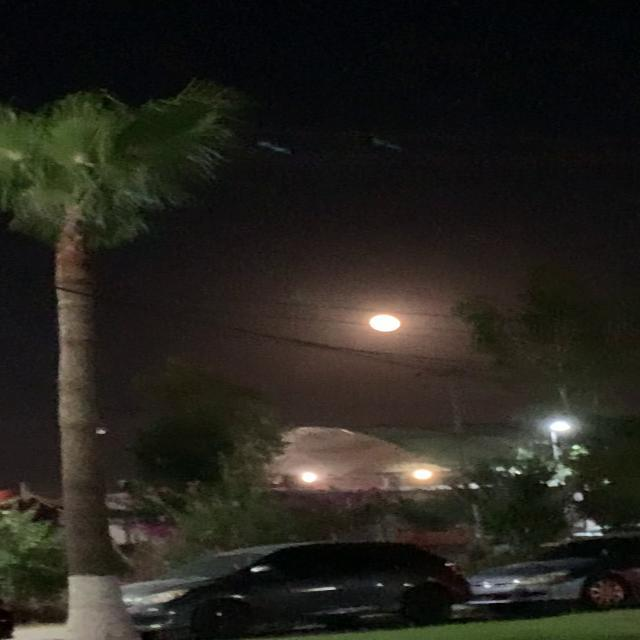moon: (370, 312, 398, 333)
